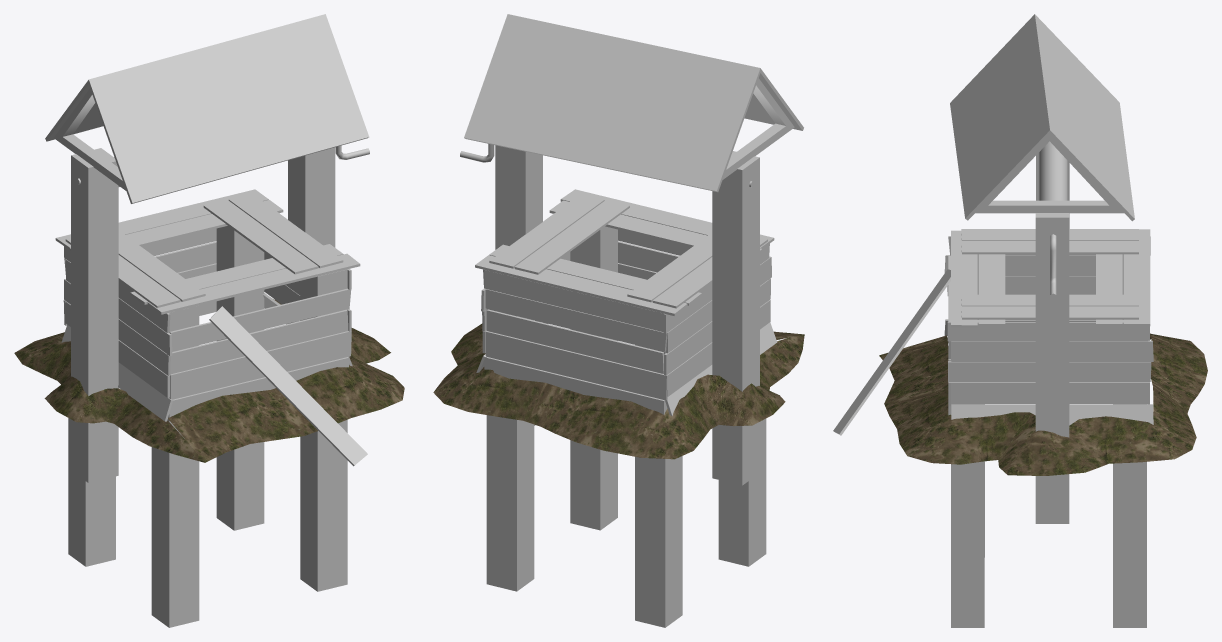
File: Kolodez.FBX
3 renders of one model, left to right at view 1: azimuth 30°, elevation 25°; view 2: azimuth 150°, elevation 25°; view 3: azimuth 270°, elevation 25°, orthographic. The views are drawn at different scales.
Visible parts, largest first — view 1: WoodKolodez_LOD0; view 2: WoodKolodez_LOD0; view 3: WoodKolodez_LOD0.
Part boxes in pixels (bbox=[...]): WoodKolodez_LOD0: bbox=[14, 14, 404, 627]; WoodKolodez_LOD0: bbox=[433, 14, 804, 627]; WoodKolodez_LOD0: bbox=[833, 14, 1207, 627].
Size of what is drawn, in the model's own units: 20.79 by 22.18 by 33.4.
